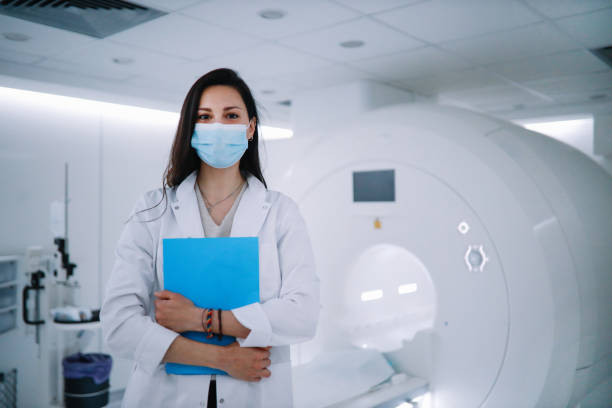with mask: (178, 69, 260, 171)
